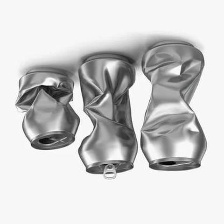can: (138, 39, 209, 172), (75, 50, 140, 178), (12, 64, 82, 151)
